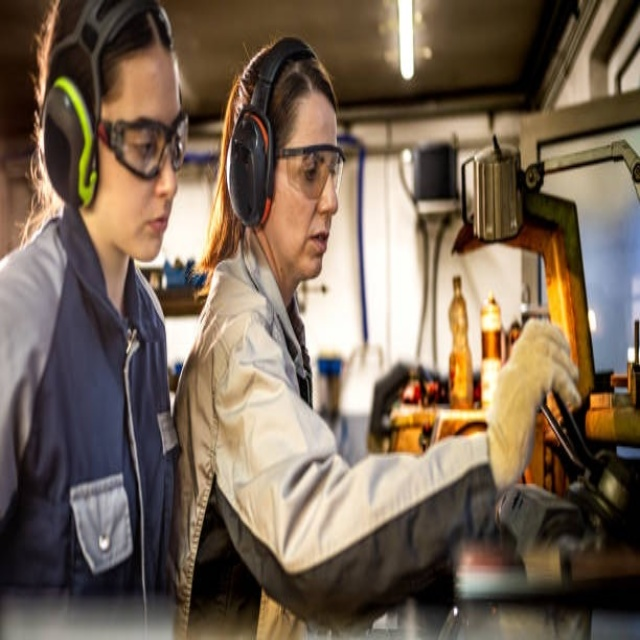Gafas: (99, 110, 190, 179), (276, 144, 347, 198)
Guantes: (486, 316, 577, 491)
Sin_mascara: (133, 205, 172, 257), (302, 225, 333, 275)
